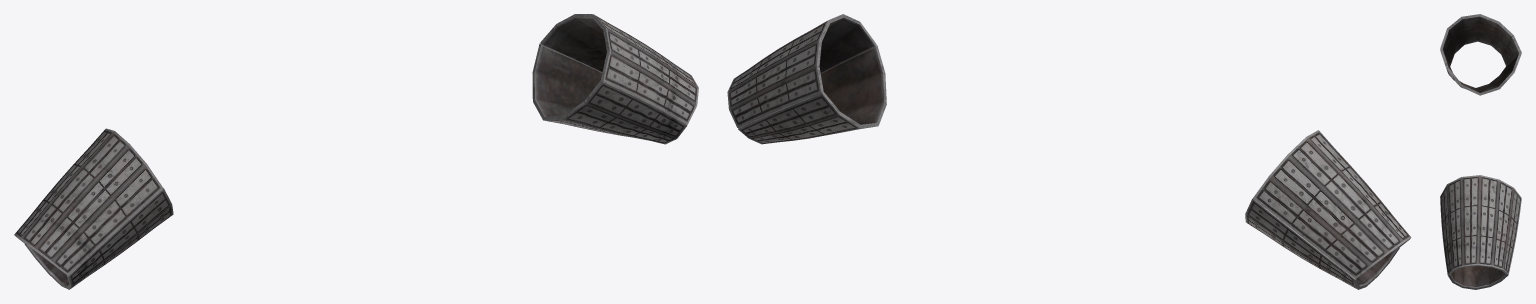
Rendered from sk_dwarf_iron_bracer_light_b2.fbx.
3 views of the same model, side by side, from view 1: azimuth 30°, elevation 25°; view 2: azimuth 150°, elevation 25°; view 3: azimuth 270°, elevation 25° (orthographic). The views are drawn at different scales.
Parts seen in each view (by area): view 1: sk_dwarf_iron_bracer_light_b2; view 2: sk_dwarf_iron_bracer_light_b2; view 3: sk_dwarf_iron_bracer_light_b2.
Part boxes in pixels (bbox=[...]): sk_dwarf_iron_bracer_light_b2: bbox=[14, 14, 698, 289]; sk_dwarf_iron_bracer_light_b2: bbox=[727, 14, 1411, 289]; sk_dwarf_iron_bracer_light_b2: bbox=[1440, 14, 1521, 289].
Size of the model in its own units: 1.18 by 0.1805 by 0.2334.
1 material, 1 textured.
